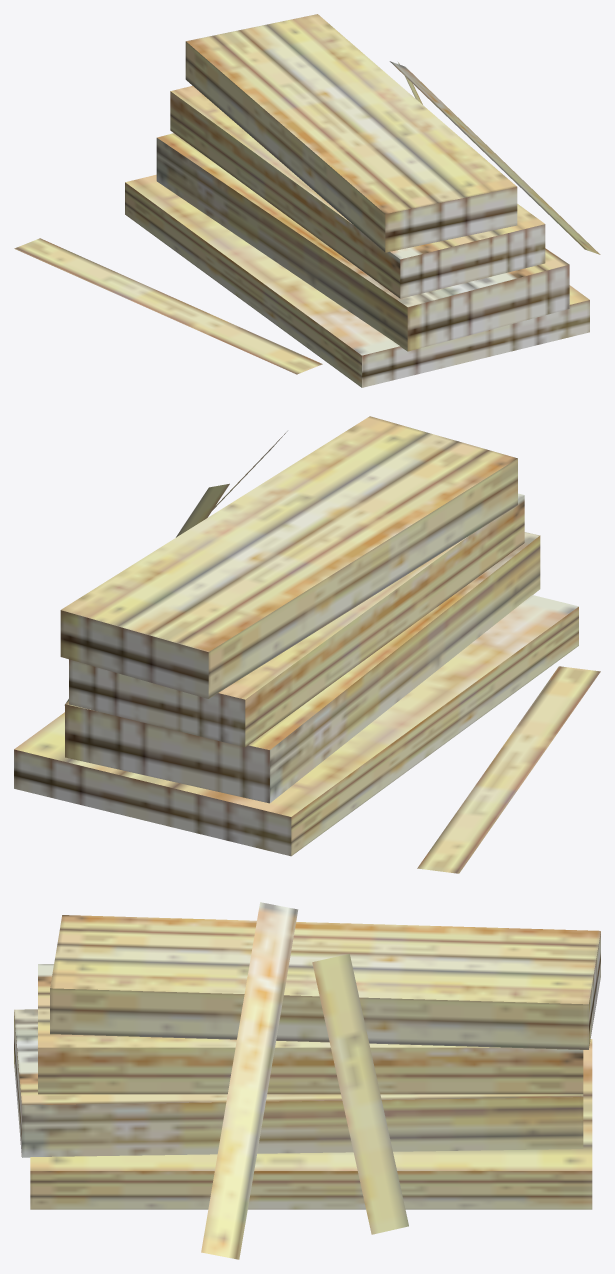
The model's file is Environment - Prop - CONSUP 01 - PMCONSUP01.glb.
3 renders of one model, top to bottom at view 1: azimuth 30°, elevation 25°; view 2: azimuth 150°, elevation 25°; view 3: azimuth 270°, elevation 25°, orthographic. The views are drawn at different scales.
Visible parts, largest first — view 1: PMCONSUP01; view 2: PMCONSUP01; view 3: PMCONSUP01.
Part boxes in pixels (x1,y1,x2,y2): PMCONSUP01: (14, 14, 600, 387); PMCONSUP01: (14, 416, 600, 873); PMCONSUP01: (14, 902, 600, 1259).
Size of the model in its own units: 20.66 by 10.01 by 20.32.
Materials: 1 (1 with a texture image).
